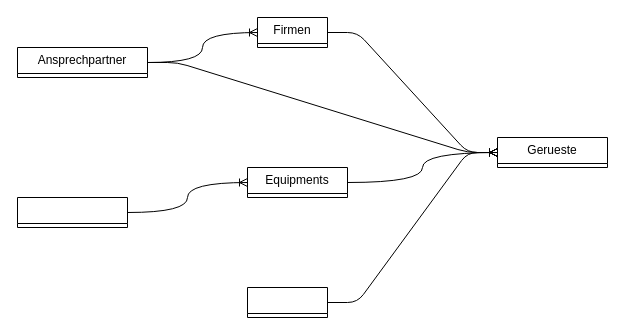
Some shapes in this 625 by 335 pixel diagram are drawn without their labels. Each missing label, with the centre of its shape:
"Inventar (LV)" belongs at [72,212].
"Projekte" belongs at [287,302].
